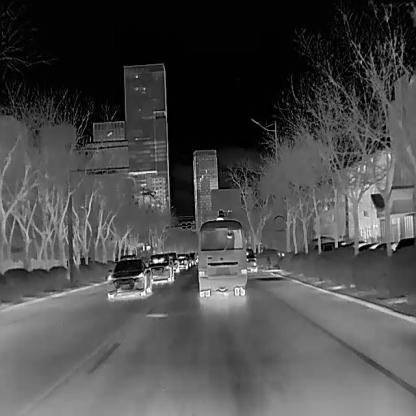bus: (196, 214, 248, 295)
car: (105, 256, 150, 297), (148, 252, 172, 282), (246, 246, 256, 272), (168, 251, 178, 274), (177, 252, 188, 270)
